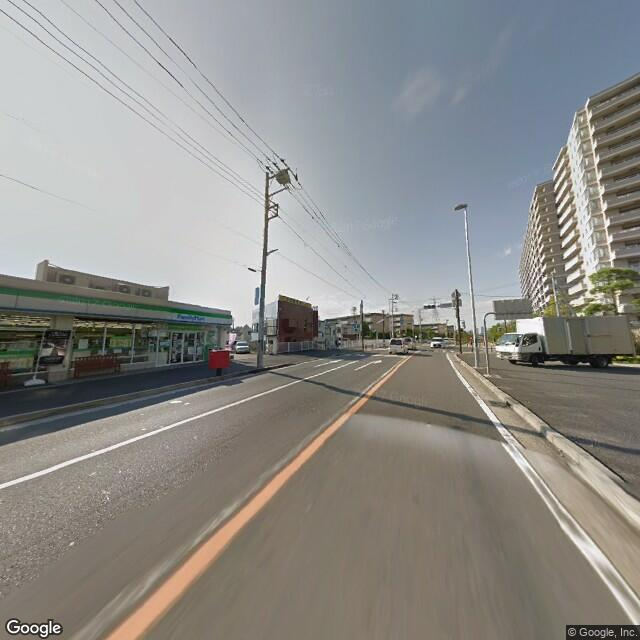family_mart: (2, 279, 233, 329), (173, 310, 209, 322)
